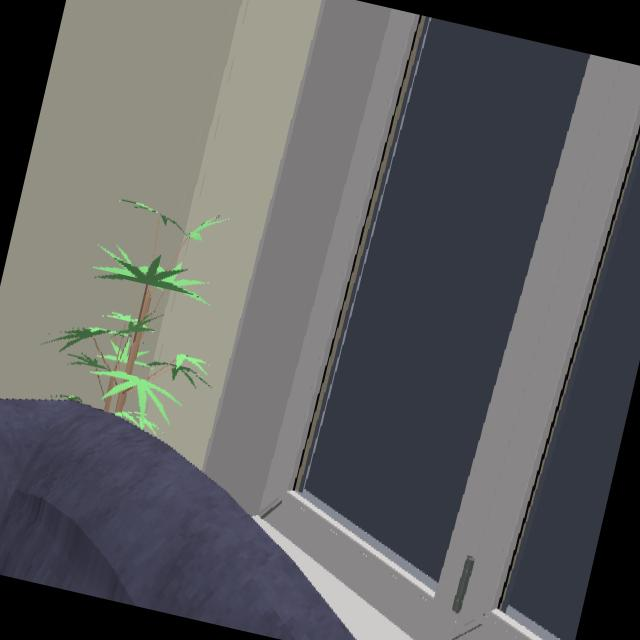sofa: (0, 400, 353, 640)
